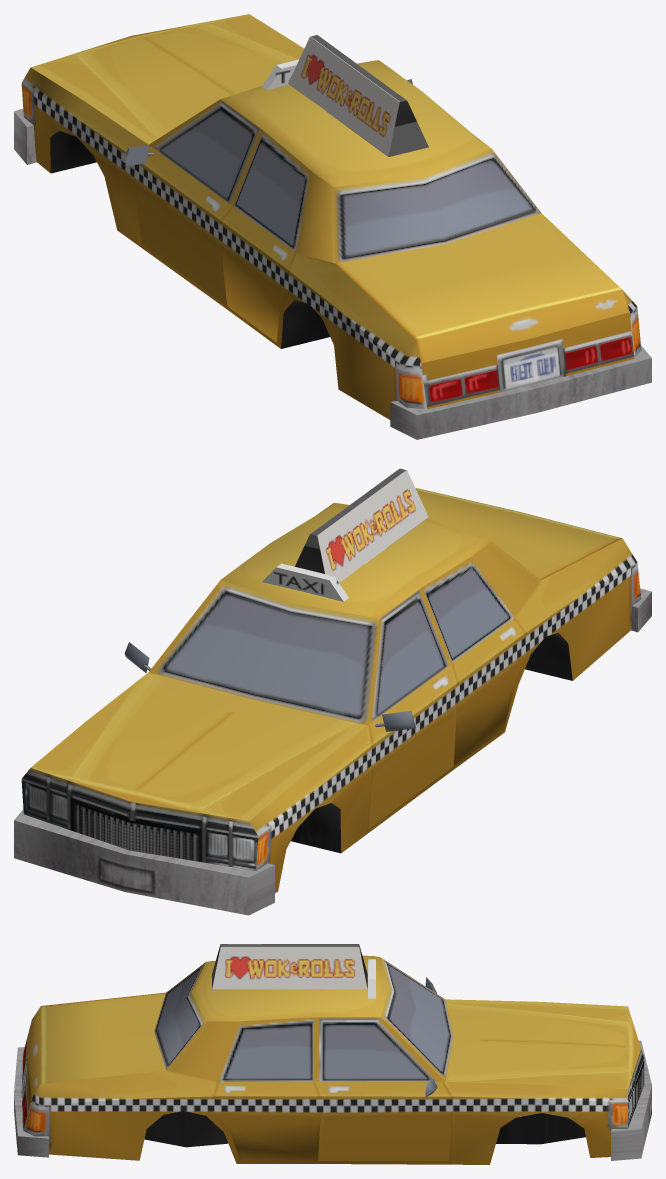
Rendered from Vehicles_CarTaxi.FBX.
The picture shows the model from 3 angles, top to bottom: view 1: azimuth 30°, elevation 25°; view 2: azimuth 150°, elevation 25°; view 3: azimuth 270°, elevation 25°; orthographic projection. The views are drawn at different scales.
Parts seen in each view (by area): view 1: Vehicles_CarTaxi; view 2: Vehicles_CarTaxi; view 3: Vehicles_CarTaxi.
Part boxes in pixels (<box>): Vehicles_CarTaxi: <box>14,14,651,439</box>; Vehicles_CarTaxi: <box>14,468,651,915</box>; Vehicles_CarTaxi: <box>14,944,651,1164</box>.
Size of the model in its own units: 106 by 81.58 by 262.
Materials: 1 (1 with a texture image).
